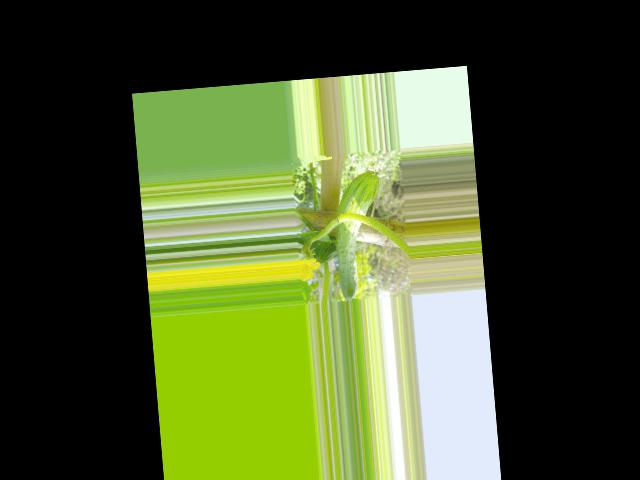cucumber: (330, 170, 387, 301)
